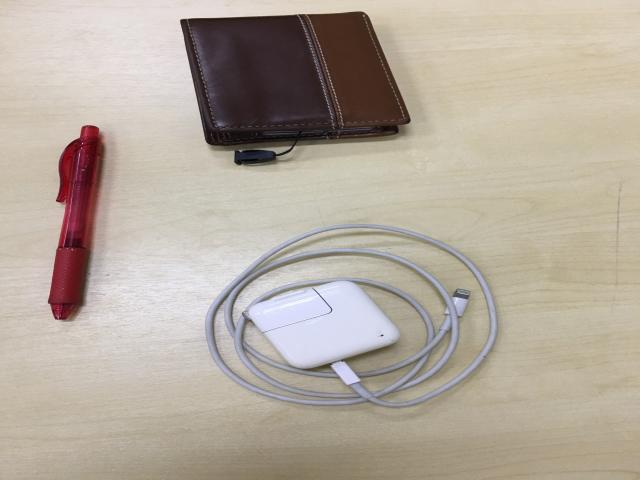Pen: (48, 126, 104, 323)
Wallet: (181, 11, 412, 154)
wire: (204, 224, 503, 410)
